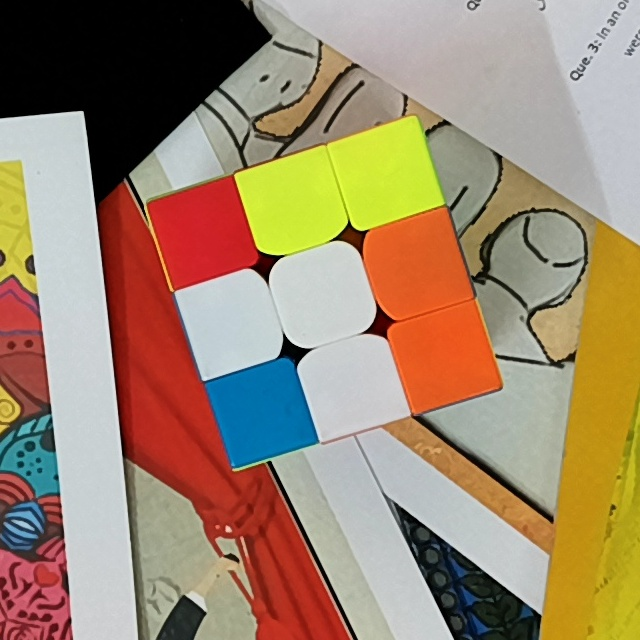tile: (285, 257, 361, 330), (408, 320, 482, 393), (380, 229, 453, 301), (256, 169, 329, 238), (347, 139, 422, 206), (196, 287, 267, 356), (226, 377, 295, 448), (317, 350, 388, 419), (169, 197, 239, 266)
